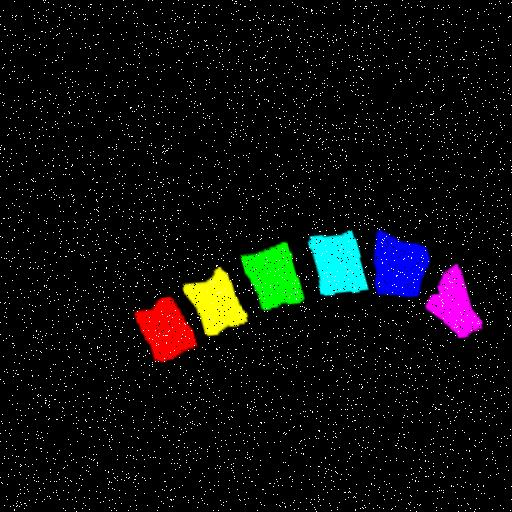L1: (129, 292, 191, 356)
L2: (180, 261, 242, 330)
L3: (237, 234, 300, 302)
L4: (306, 222, 364, 286)
L5: (369, 220, 426, 287)
S1: (422, 253, 478, 326)
